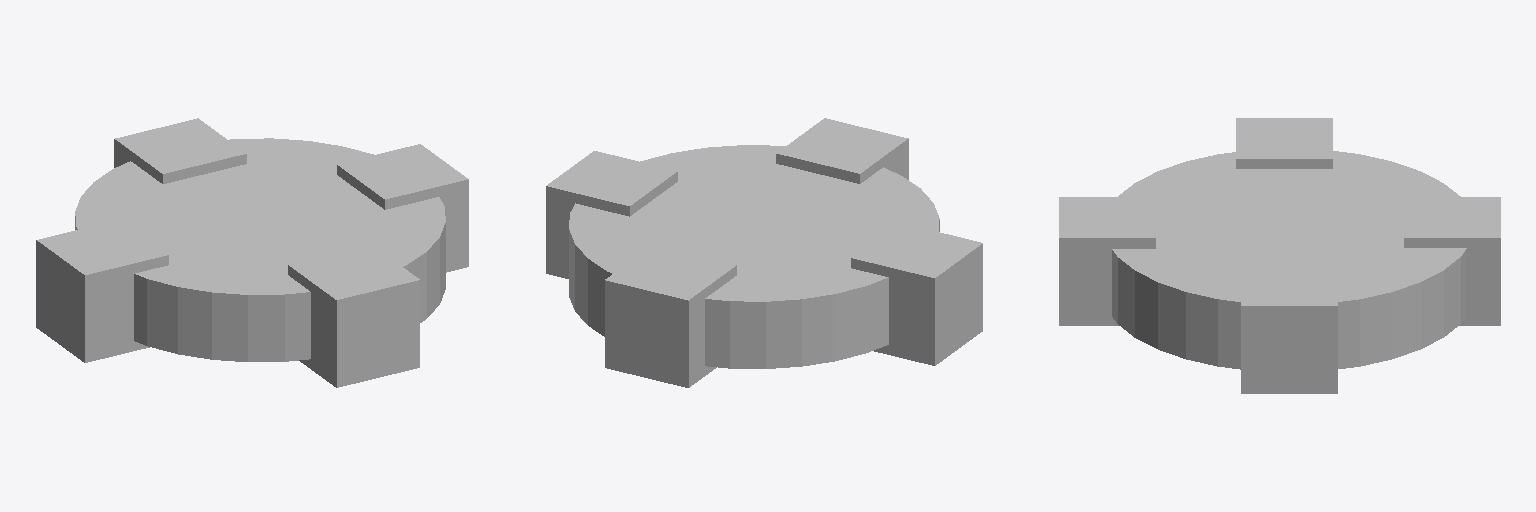
The model's file is Instruction_Pointer.obj.
3 views of the same model, side by side, from view 1: azimuth 30°, elevation 25°; view 2: azimuth 150°, elevation 25°; view 3: azimuth 270°, elevation 25° (orthographic).
Parts seen in each view (by area): view 1: Cylinder; view 2: Cylinder; view 3: Cylinder.
Boxes of the visible parts, x1,y1,x2,y2 form: Cylinder: [36, 118, 468, 387]; Cylinder: [546, 118, 982, 387]; Cylinder: [1059, 118, 1500, 393].
Bounding box in the file's own units: 2.4 × 0.5215 × 2.38.